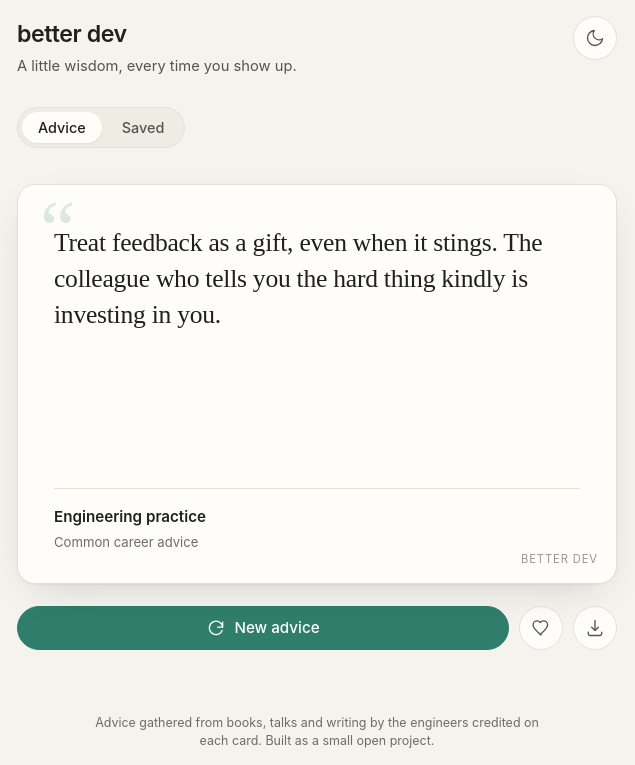
Test: App › shows an empty state when nothing is saved
This screenshot has width=635, height=765.
Step 1. Click the button "Saved" → point(143, 127), box [106, 112, 180, 143]
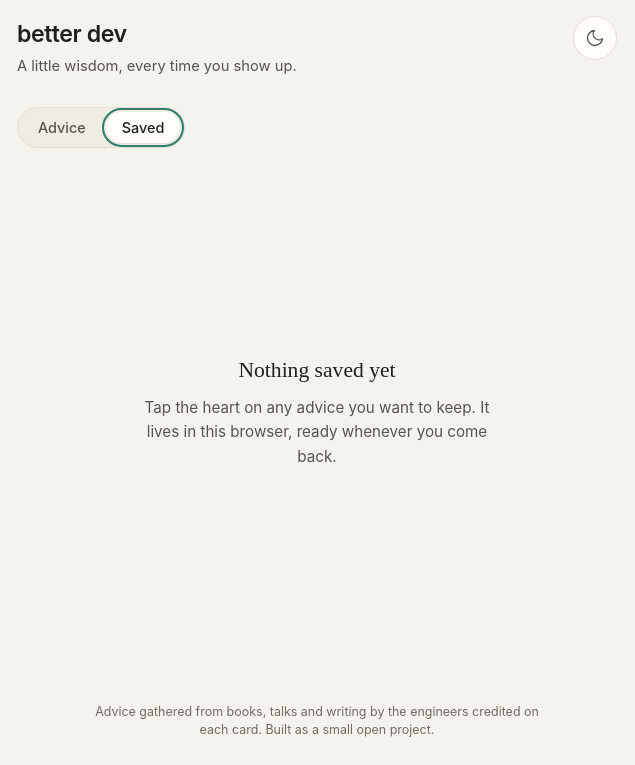
Expected: the text "Nothing saved yet" is shown, [238, 353, 396, 388]
